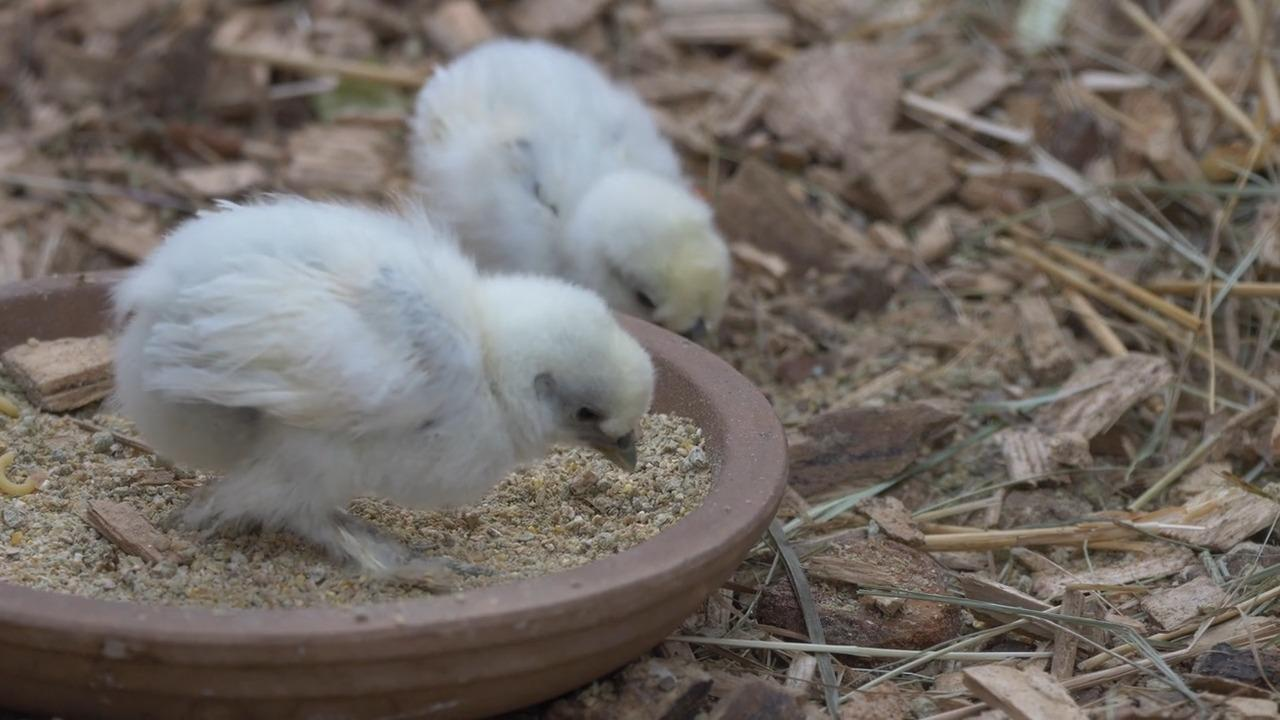Normal: (115, 206, 643, 569)
